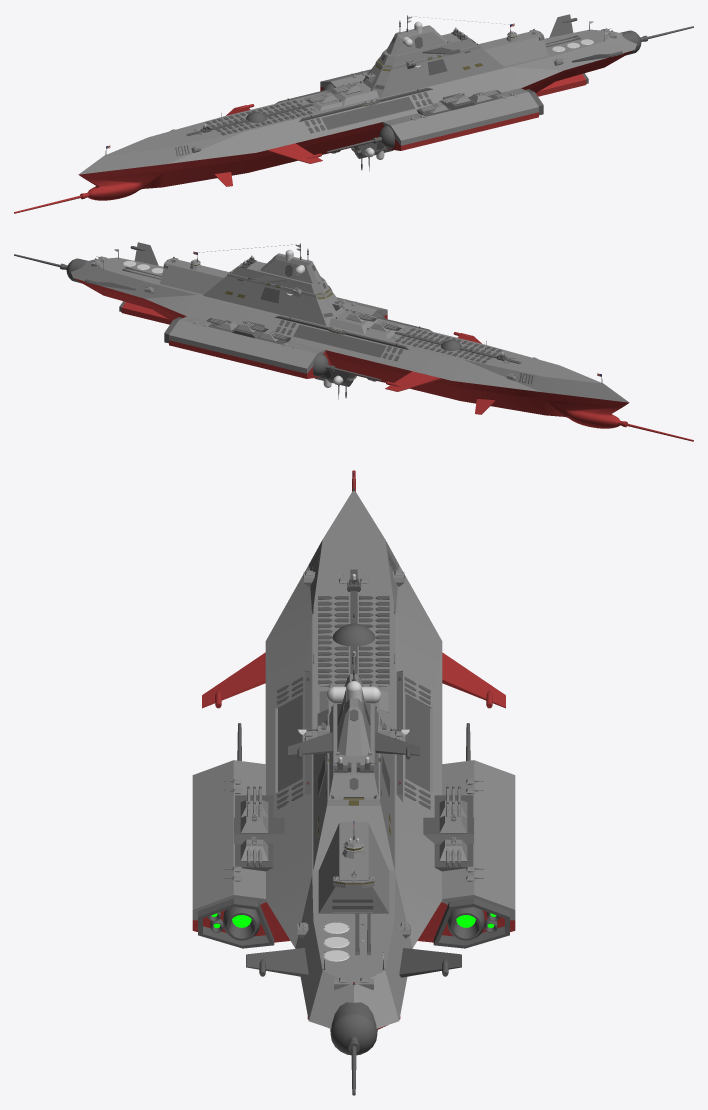
Rendered from BossEnemy.fbx.
3 renders of one model, top to bottom at view 1: azimuth 30°, elevation 25°; view 2: azimuth 150°, elevation 25°; view 3: azimuth 270°, elevation 25°, orthographic. The views are drawn at different scales.
Visible parts, largest first — view 1: ambientLight3; view 2: ambientLight3; view 3: ambientLight3.
Part boxes in pixels (box(x1,y1,x2,y2)): ambientLight3: box(14, 14, 693, 213); ambientLight3: box(14, 242, 693, 441); ambientLight3: box(192, 470, 515, 1095).
Bounding box in the file's own units: 38.22 × 7.89 × 7.87.
